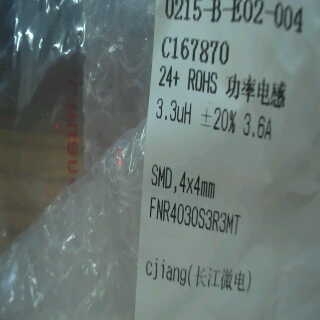3.3uH: (153, 85, 202, 141)
